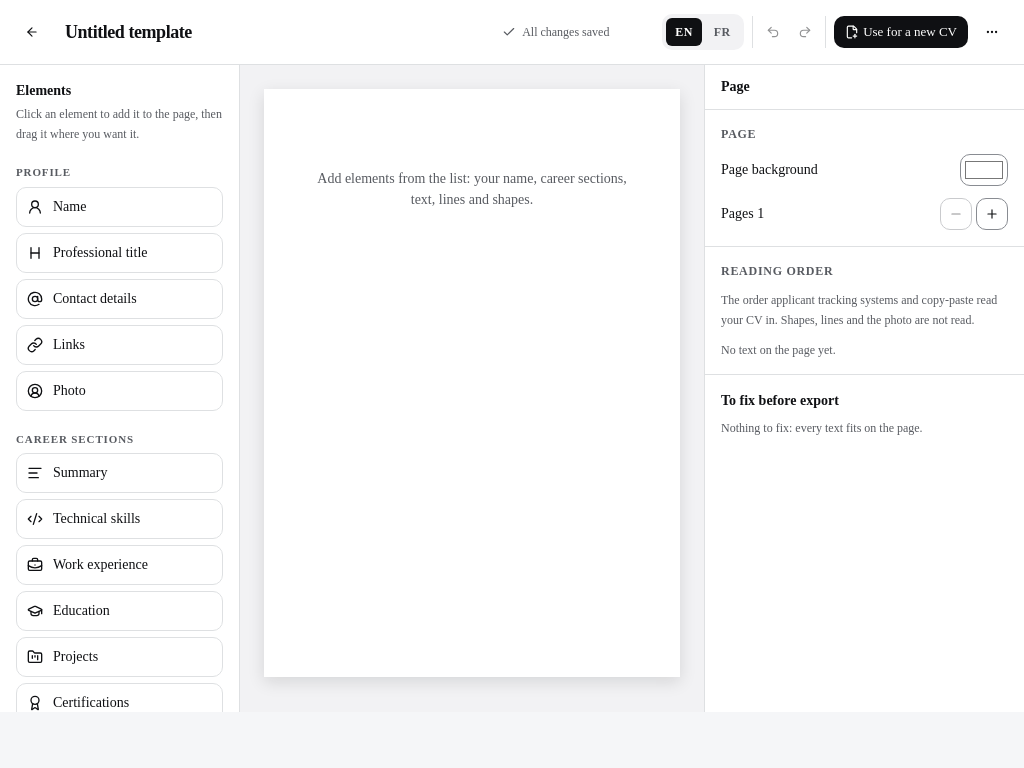
Test: template designer › moves and resizes with the keyboard, and undoes it
Click the button with aria-label "Add Name" at (120, 206), box [16,186,223,226]
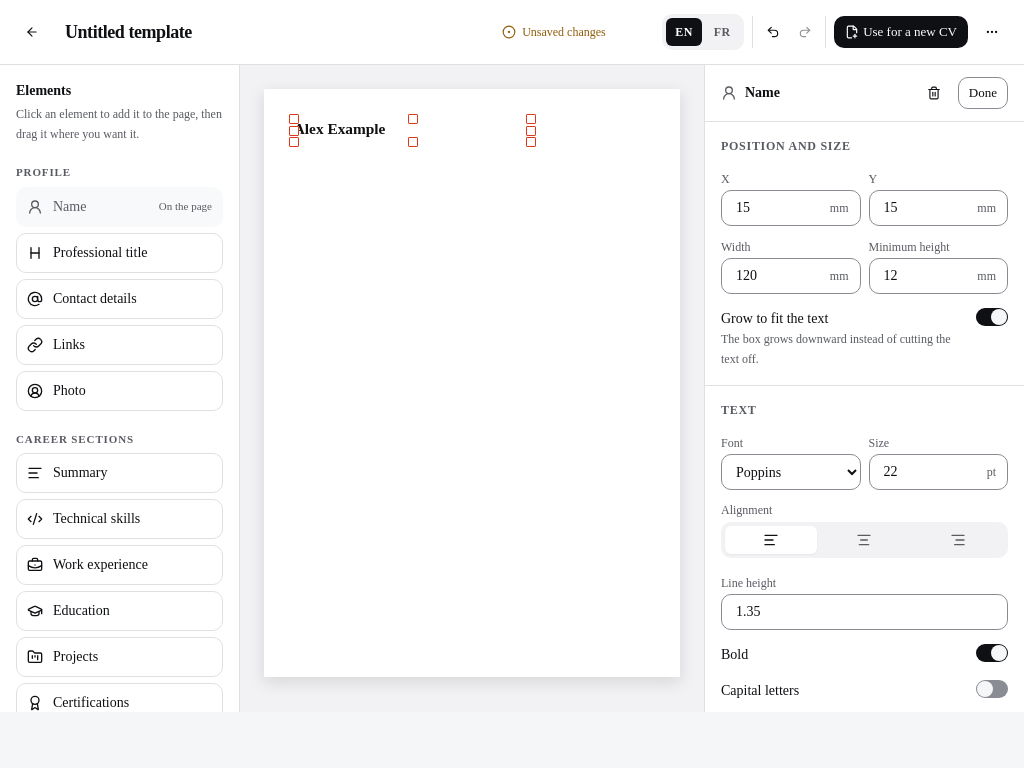
Press Arrowright
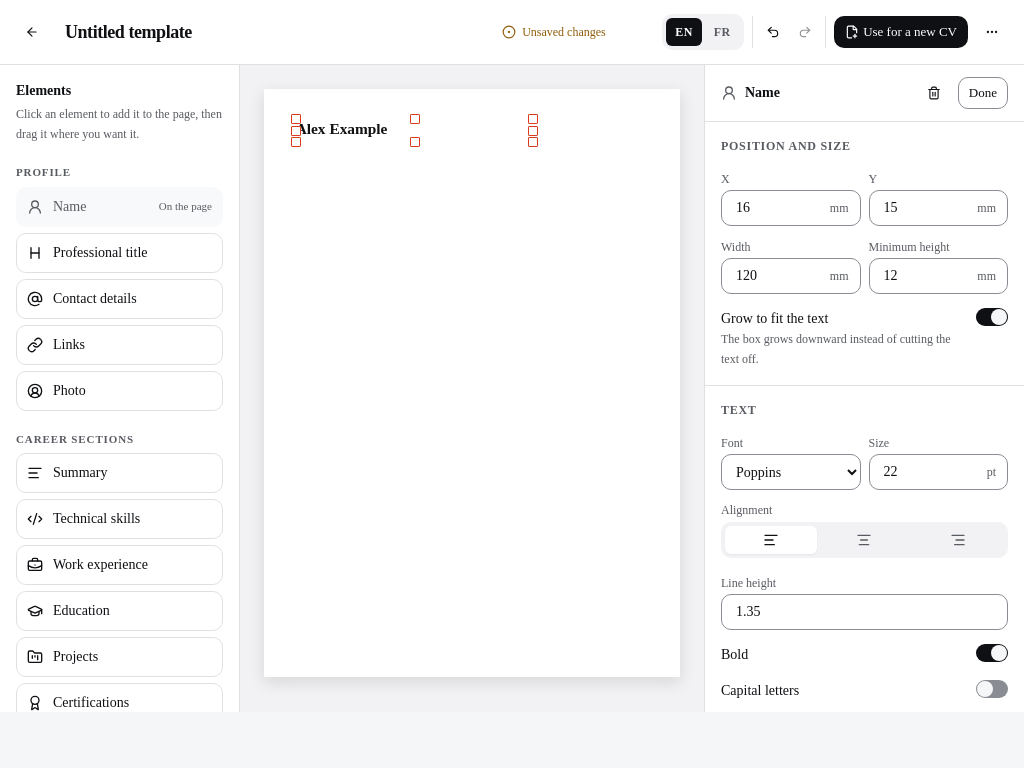
Expected: the button named "Name, at 16 by 15 mm" is shown, [296,119,533,142]
Expected: the number field labelled "X" holds "16", [721,190,860,226]
Type keys "{Shift>}{ArrowDown}{/Shift}"
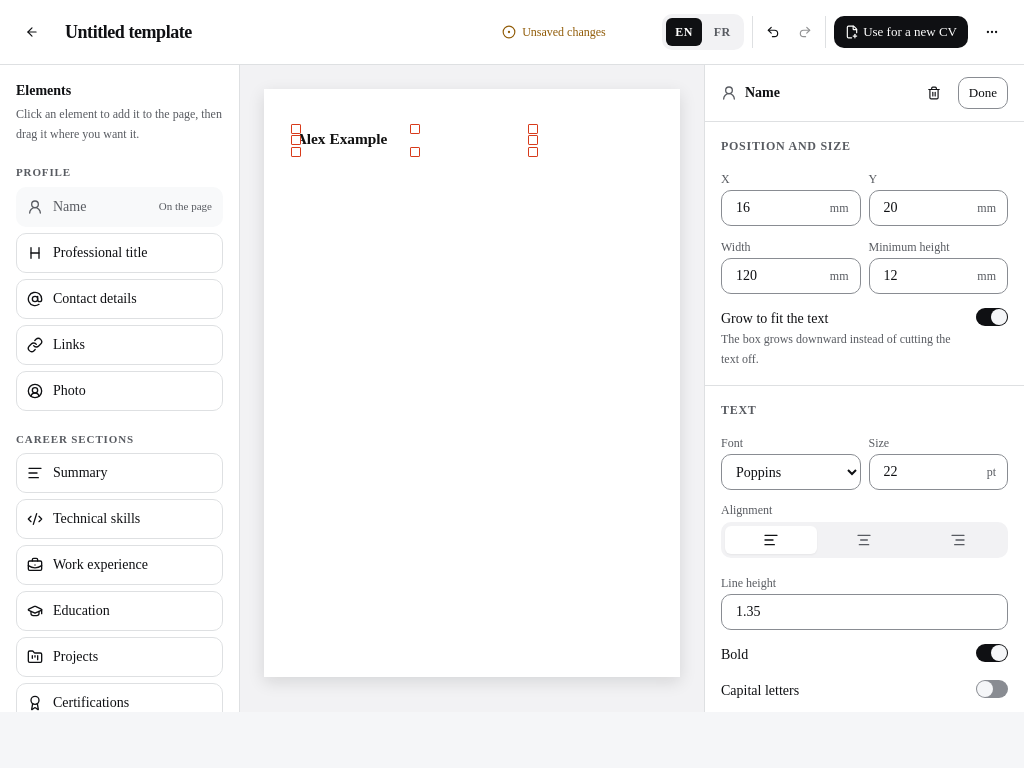
Expected: the number field labelled "Y" holds "20", [868,190,1008,226]
Type keys "{Control>}{ArrowRight}{/Control}"
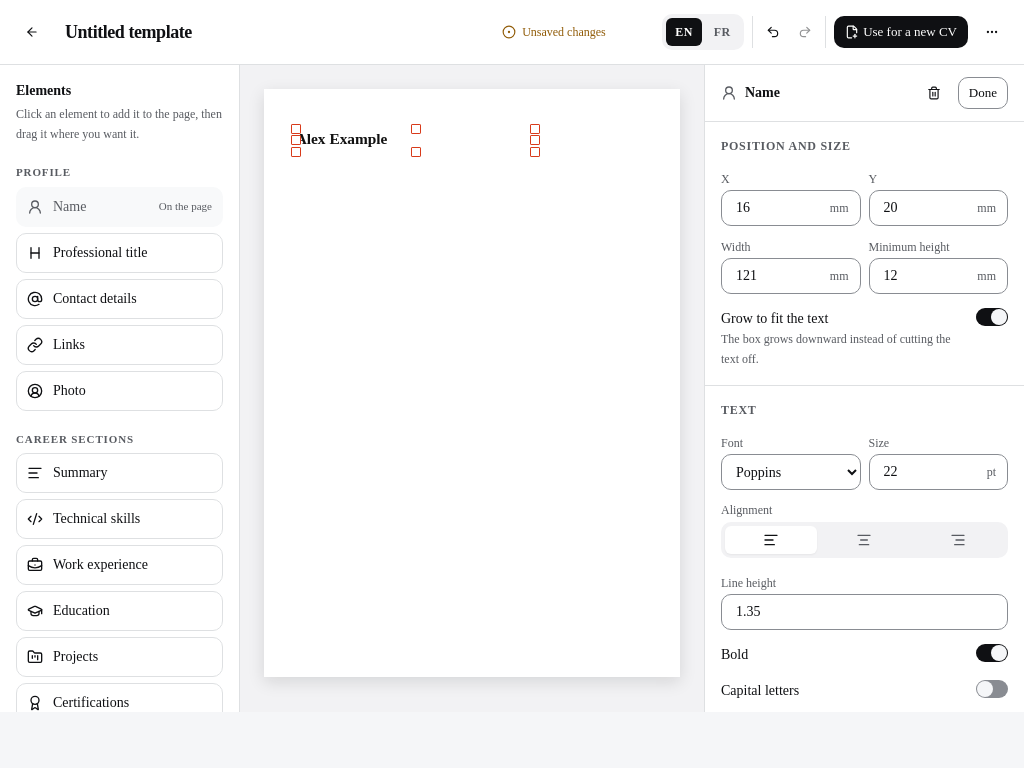
Expected: the number field labelled "Width" holds "121", [721,258,860,294]
Press z
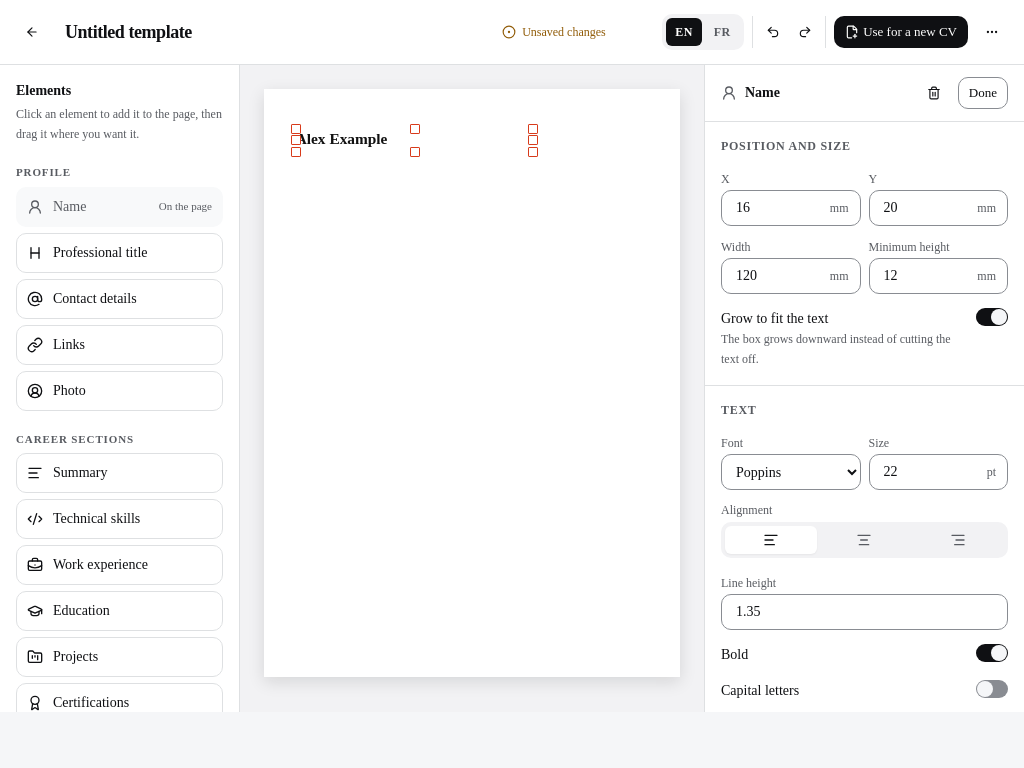
Expected: the number field labelled "Width" holds "120", [721,258,860,294]
Press z
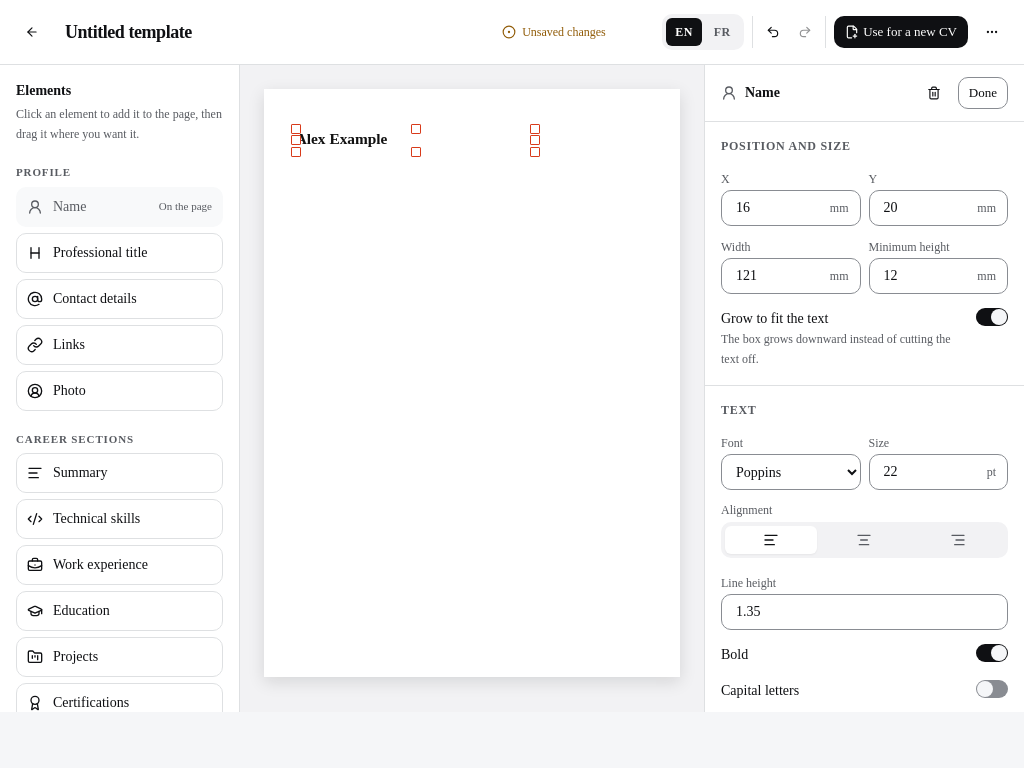
Expected: the number field labelled "Width" holds "121", [721,258,860,294]
